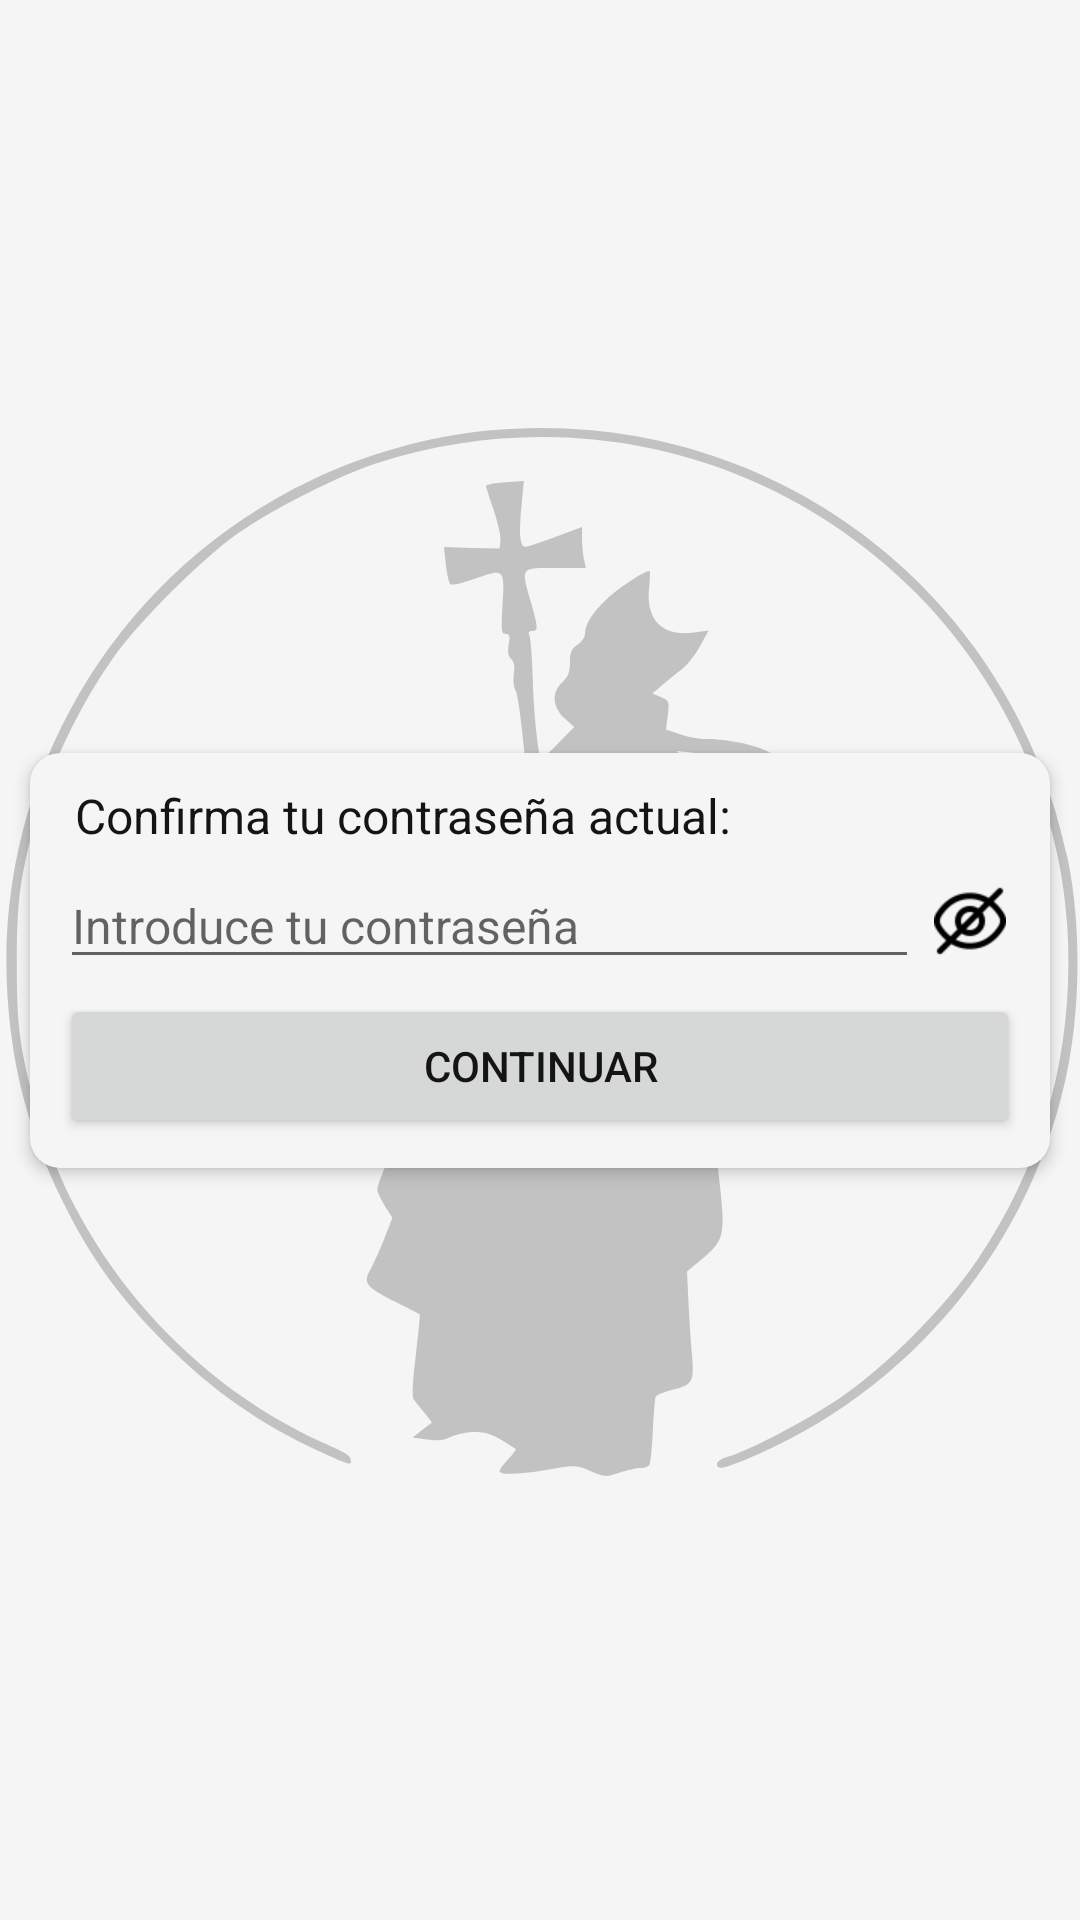

Screen size 1080x1920. Icon name, then its box in pixels as (x1, y1, x2, y2):
eye crossed: (934, 887, 1006, 955)
